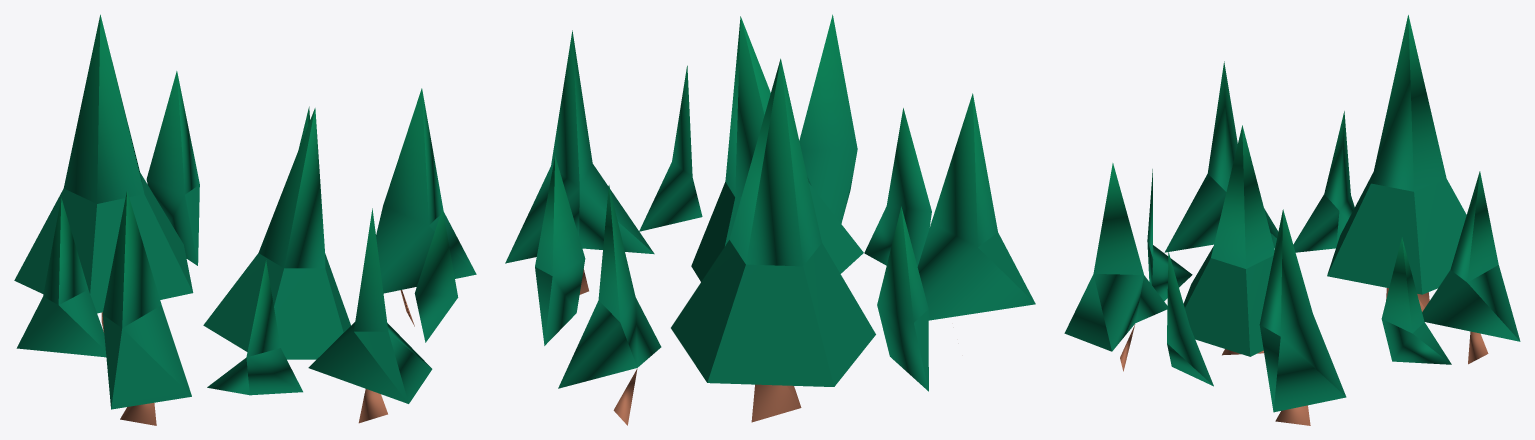
File: trees_medium-small.glb
The picture shows the model from 3 angles, left to right: view 1: azimuth 30°, elevation 25°; view 2: azimuth 150°, elevation 25°; view 3: azimuth 270°, elevation 25°; orthographic projection. The views are drawn at different scales.
Visible parts, largest first — view 1: trees_A_medium; view 2: trees_A_medium; view 3: trees_A_medium.
Part boxes in pixels (x1=…): trees_A_medium: x1=14, y1=14, x2=476, y2=425; trees_A_medium: x1=505, y1=14, x2=1035, y2=425; trees_A_medium: x1=1064, y1=15, x2=1520, y2=425.
Size of the model in its own units: 1.74 by 1.3 by 1.8.
Materials: 1 (1 with a texture image).
